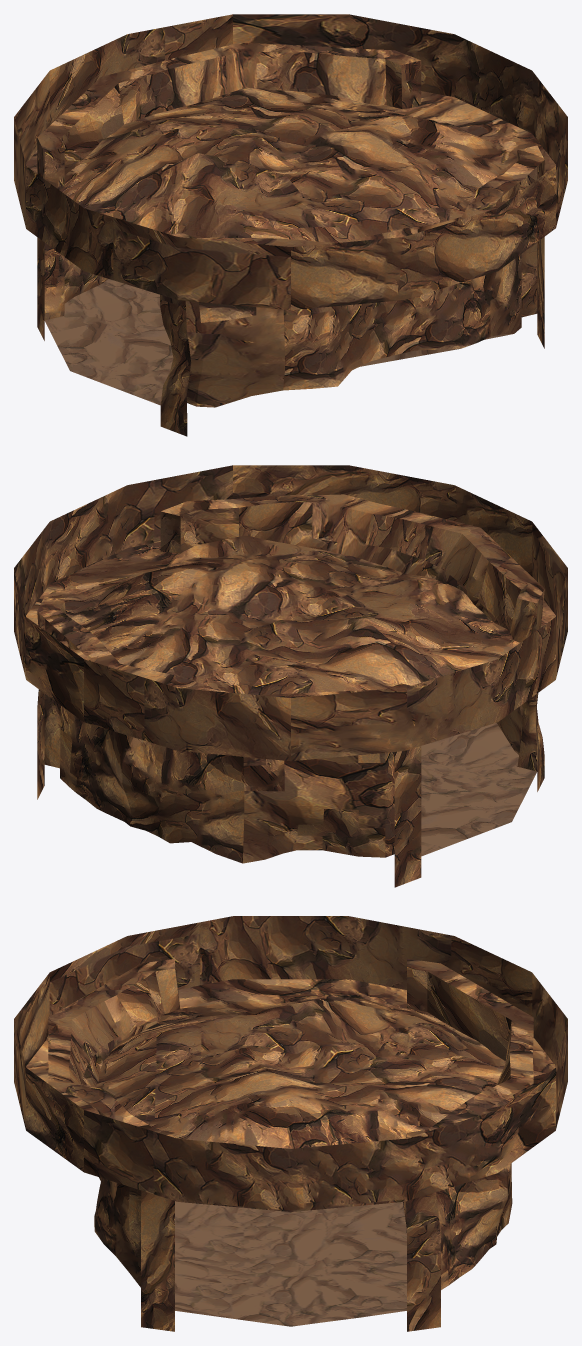
File: start_cave.fbx
3 views of the same model, one above another, from view 1: azimuth 30°, elevation 25°; view 2: azimuth 150°, elevation 25°; view 3: azimuth 270°, elevation 25° (orthographic).
Parts seen in each view (by area): view 1: pCylinder3, pCylinder2; view 2: pCylinder3, pCylinder2; view 3: pCylinder3, pCylinder2.
Part boxes in pixels (box(x1,y1,x2,y2)): pCylinder3: box(14, 14, 567, 310); pCylinder2: box(37, 43, 544, 436); pCylinder3: box(14, 465, 567, 761); pCylinder2: box(37, 494, 544, 887); pCylinder3: box(14, 916, 567, 1211); pCylinder2: box(48, 958, 533, 1331).
Size of the model in its own units: 23.74 by 9.92 by 23.87.
3 materials, 3 textured.
